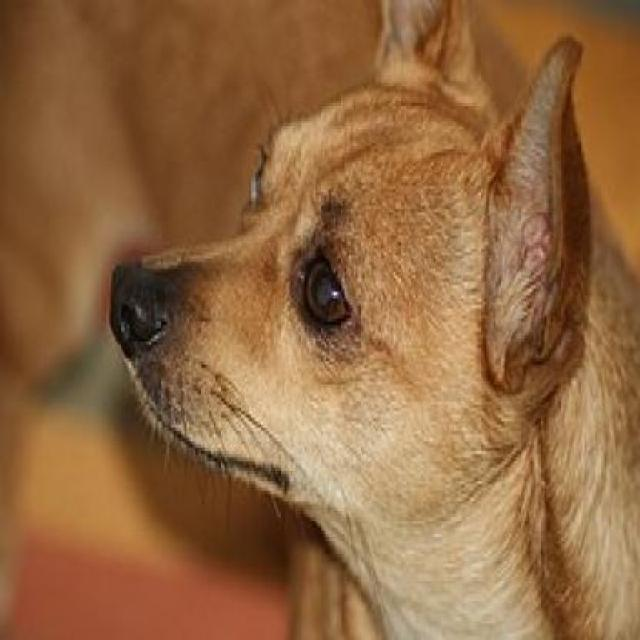animals: (120, 0, 622, 640)
